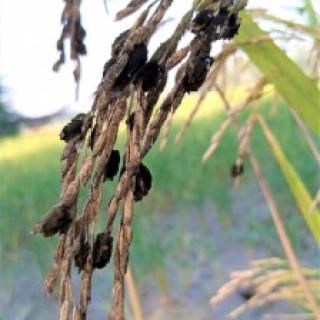Gosong-Palsu: (101, 28, 143, 94), (125, 158, 156, 205), (58, 106, 92, 146), (184, 46, 211, 95), (42, 200, 72, 242), (88, 227, 114, 274), (104, 145, 122, 186)
